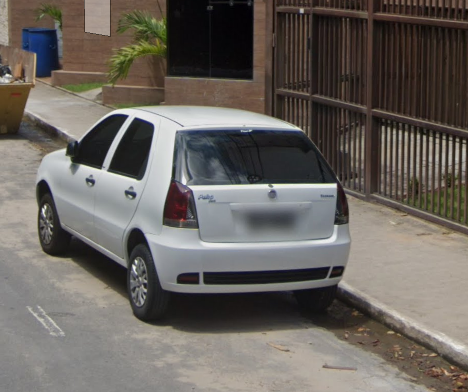car: (29, 97, 355, 326)
